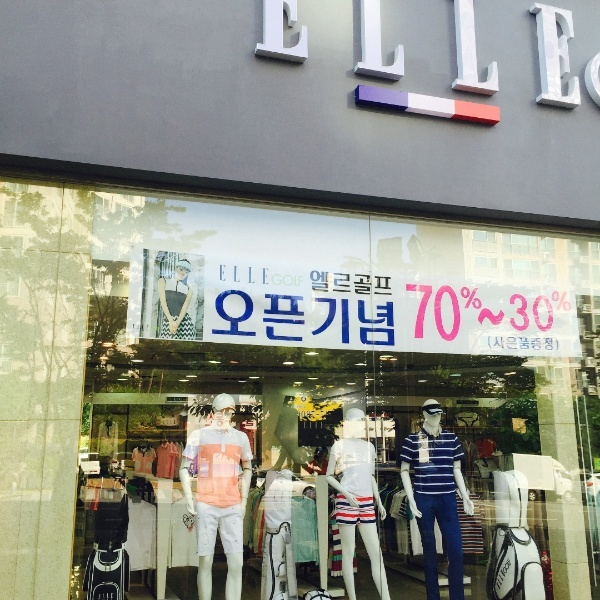text: (257, 2, 272, 116), (273, 2, 288, 116), (289, 2, 304, 116), (305, 2, 320, 116), (321, 2, 336, 116), (337, 2, 352, 116), (353, 2, 368, 116), (369, 2, 384, 116), (385, 2, 400, 116), (401, 2, 416, 116), (417, 2, 432, 116), (433, 2, 448, 116), (449, 2, 464, 116), (465, 2, 480, 116), (481, 2, 496, 116), (497, 2, 512, 116), (513, 2, 528, 116), (529, 2, 544, 116), (545, 2, 560, 116), (561, 2, 576, 116), (417, 282, 432, 346), (433, 282, 448, 346), (449, 282, 464, 346), (465, 282, 480, 346), (481, 282, 496, 346), (497, 282, 512, 346), (513, 282, 528, 346), (529, 282, 544, 346), (545, 282, 560, 346), (225, 288, 240, 348), (241, 288, 256, 348), (257, 288, 272, 348), (273, 288, 288, 348), (289, 288, 304, 348), (305, 288, 320, 348), (321, 288, 336, 348), (337, 288, 352, 348), (353, 288, 368, 348), (369, 288, 384, 348), (561, 282, 574, 346), (577, 2, 584, 116), (212, 288, 224, 348), (385, 288, 397, 348), (405, 282, 416, 346), (321, 271, 336, 297), (337, 271, 352, 297), (353, 271, 368, 297), (369, 271, 384, 297), (225, 265, 240, 286), (241, 265, 256, 286), (310, 271, 320, 297), (497, 336, 512, 353), (513, 336, 528, 353), (529, 336, 544, 353), (257, 265, 269, 286), (545, 336, 559, 353), (385, 271, 393, 297), (273, 275, 288, 288), (289, 275, 304, 288), (487, 336, 496, 353), (219, 265, 224, 286)
